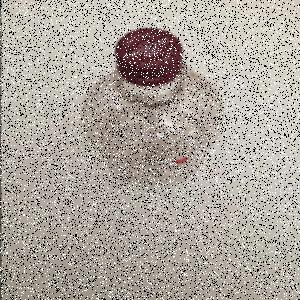Plastic-bottle: (80, 27, 228, 189)
